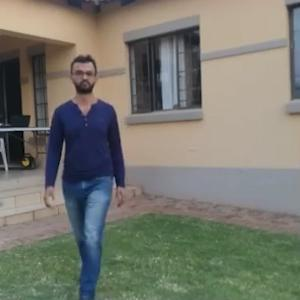follow: (50, 49, 128, 299)
